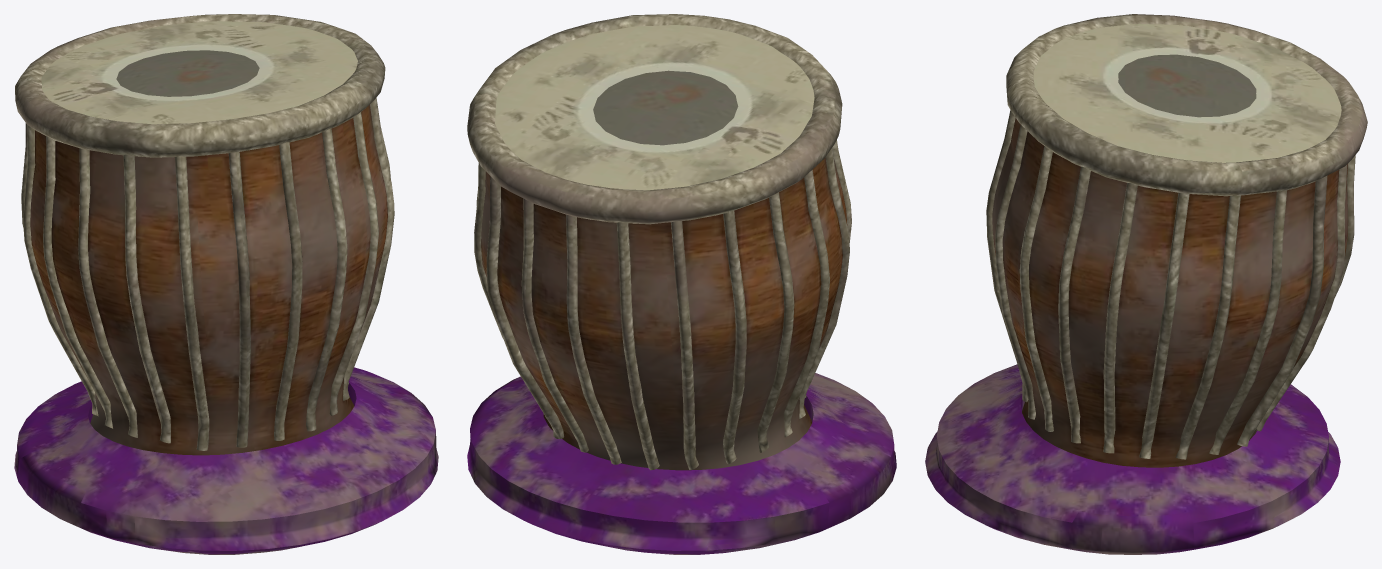
Rendered from realtabla.glb.
3 views of the same model, side by side, from view 1: azimuth 30°, elevation 25°; view 2: azimuth 150°, elevation 25°; view 3: azimuth 270°, elevation 25° (orthographic).
Parts seen in each view (by area): view 1: tabla_big1; view 2: tabla_big1; view 3: tabla_big1.
Part boxes in pixels (x1,y1,x2,y2): tabla_big1: [14, 14, 438, 554]; tabla_big1: [467, 14, 896, 554]; tabla_big1: [925, 14, 1367, 554].
Bounding box in the file's own units: 0.2775 × 0.3 × 0.2884.
6 materials, 5 textured.
